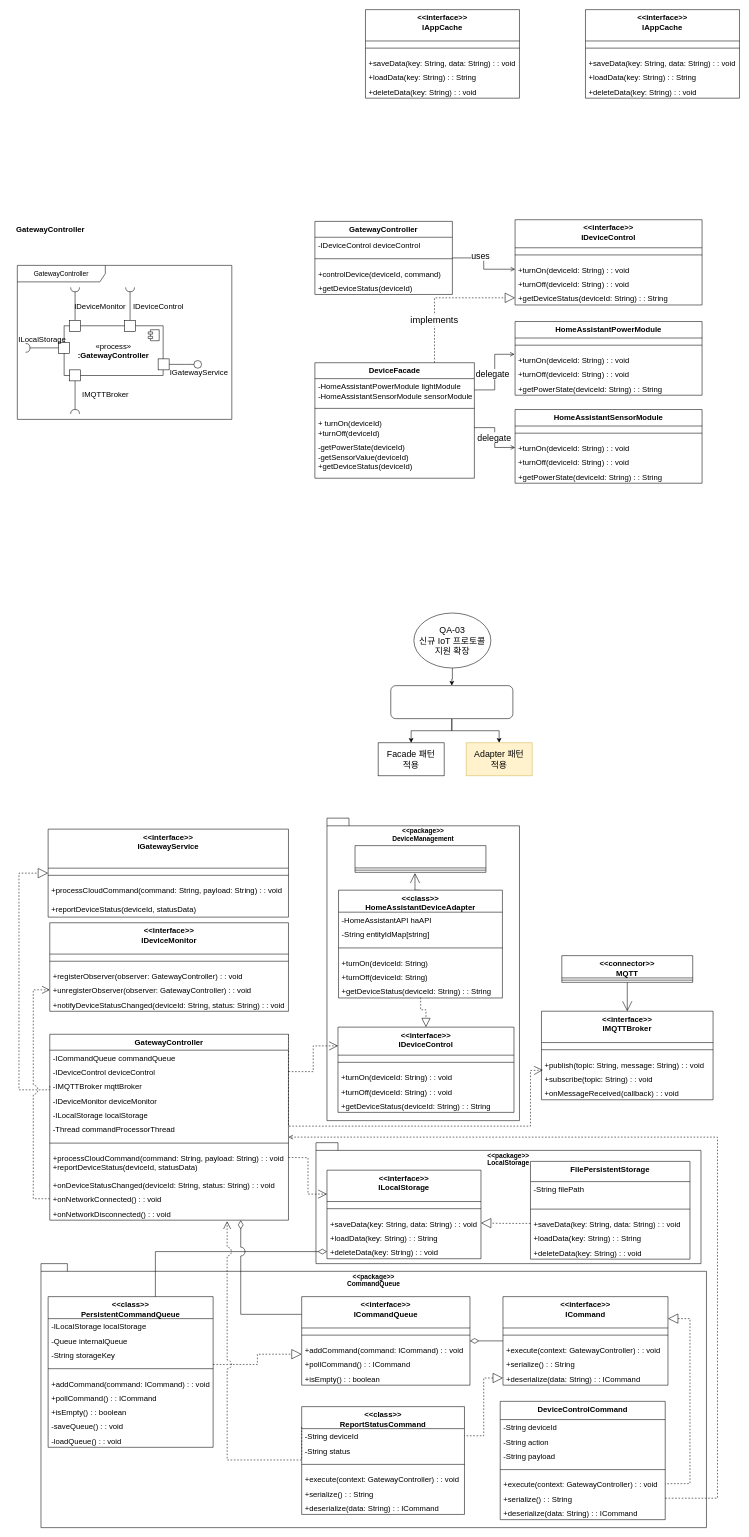
Some shapes in this 749 by 1537 pixel diagram are drawn without their labels. Here are the shapes that lost their labels. From the top down, the centre of each, then its label:
At point 451,702: "설계이슈 1 IoT 디바이스 연동 로직의 복잡성 관리 및 확장 방안".
At point 420,858: "HomeAssistantAPI".
